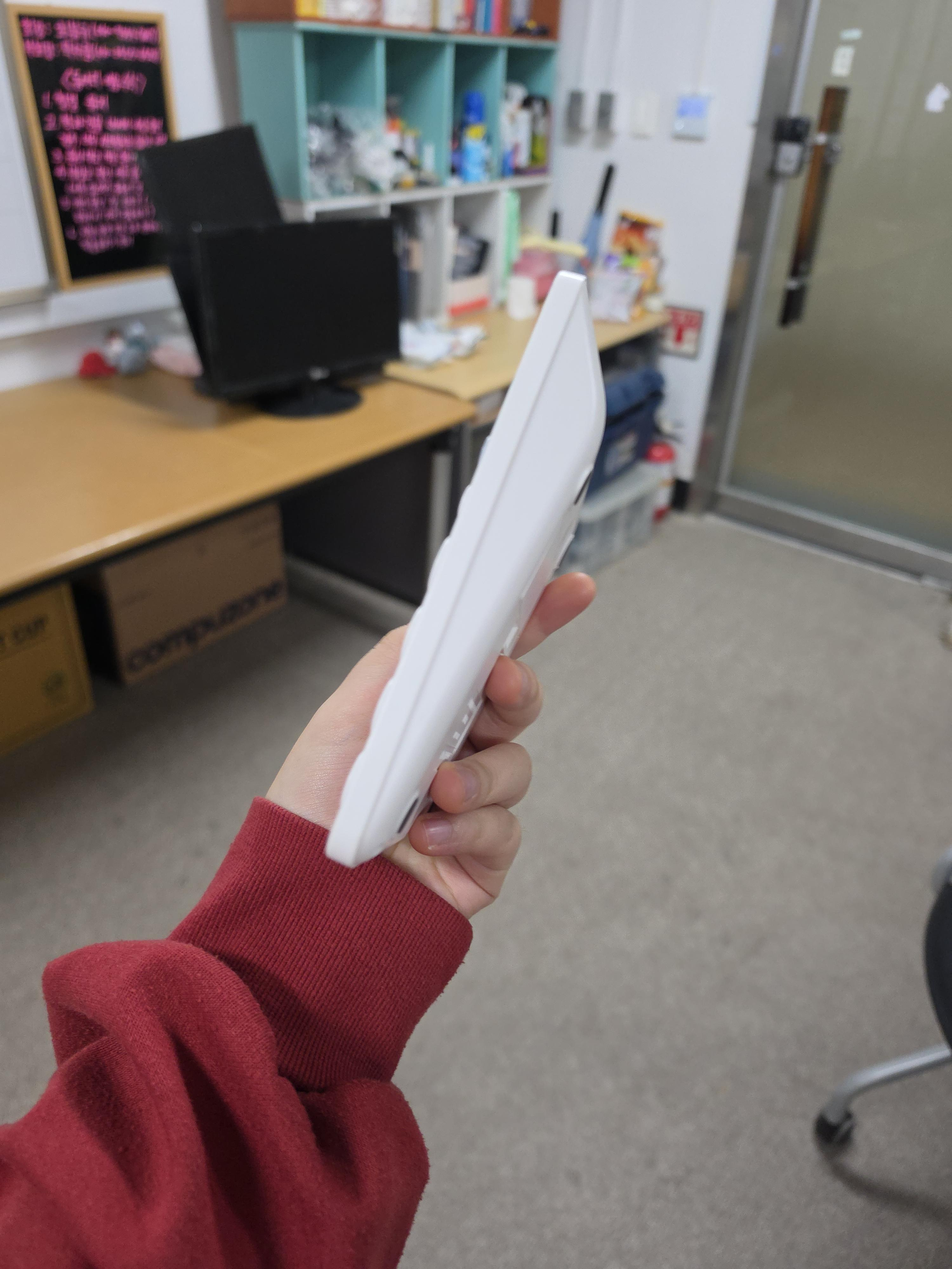calculator: (326, 270, 607, 869)
